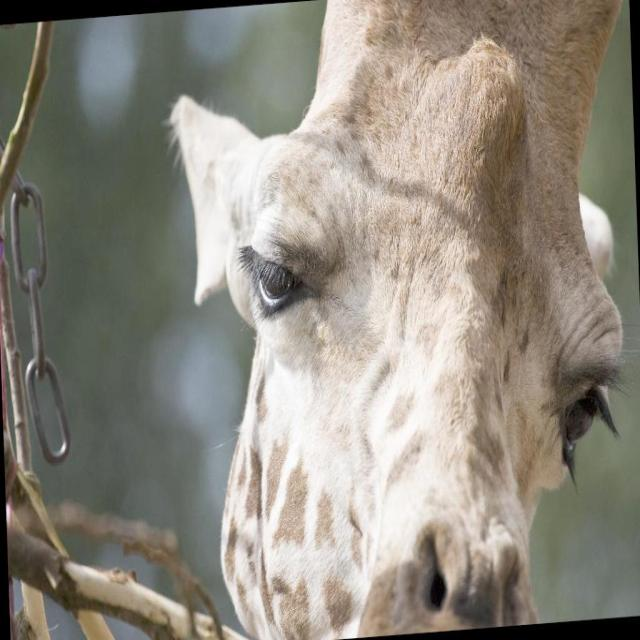Giraffe: (154, 4, 640, 640)
